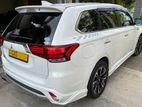car: (1, 2, 142, 105)
